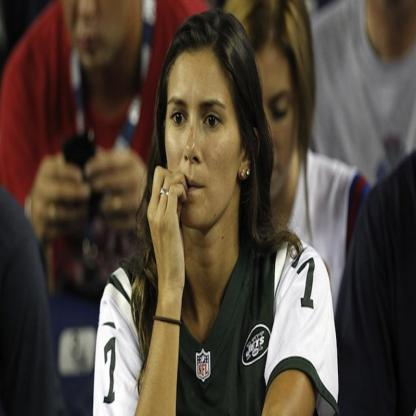face: (166, 65, 241, 232), (248, 50, 295, 206)
